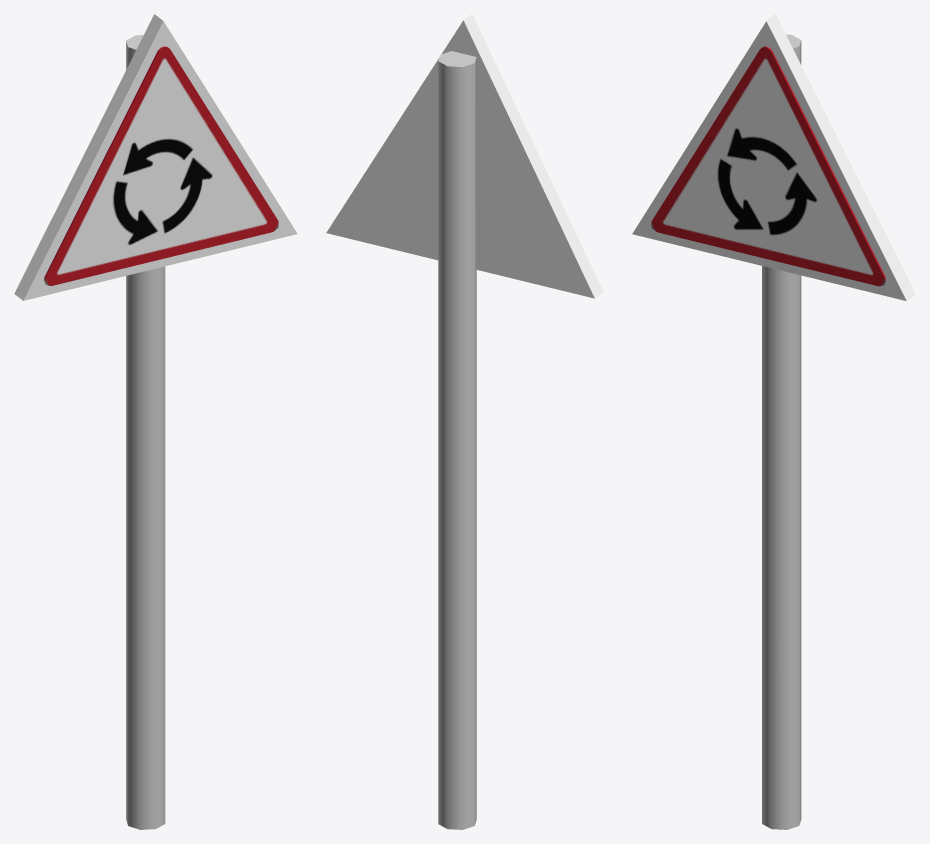
The model's file is ROUNDABOUT.fbx.
3 renders of one model, left to right at view 1: azimuth 30°, elevation 25°; view 2: azimuth 150°, elevation 25°; view 3: azimuth 330°, elevation 25°, orthographic. The views are drawn at different scales.
Visible parts, largest first — view 1: group30_pasted__group26_pasted__pasted__group25_pasted__past; view 2: group30_pasted__group26_pasted__pasted__group25_pasted__past; view 3: group30_pasted__group26_pasted__pasted__group25_pasted__past.
Boxes of the visible parts, x1,y1,x2,y2 form: group30_pasted__group26_pasted__pasted__group25_pasted__past: [14, 14, 297, 829]; group30_pasted__group26_pasted__pasted__group25_pasted__past: [326, 14, 603, 829]; group30_pasted__group26_pasted__pasted__group25_pasted__past: [632, 14, 915, 829].
Size of the model in its own units: 1.38 by 3.91 by 0.2405.
5 materials, 2 textured.
